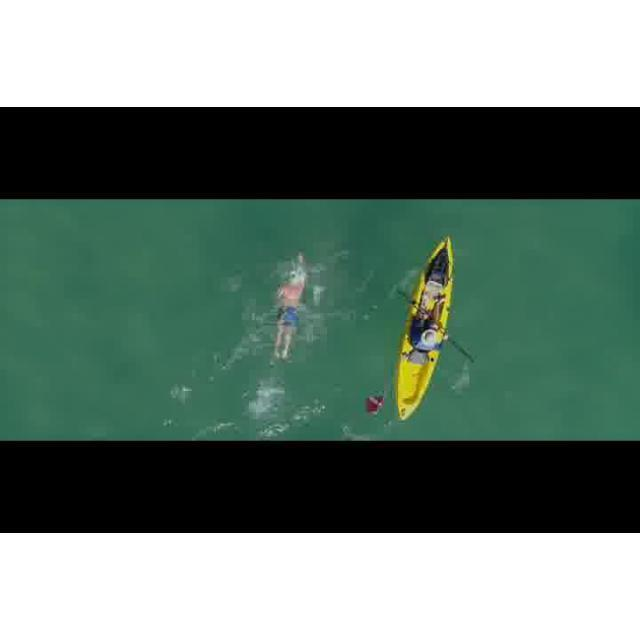human: (268, 249, 312, 372)
